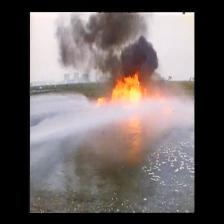fire: (94, 20, 147, 76), (109, 78, 147, 105)
